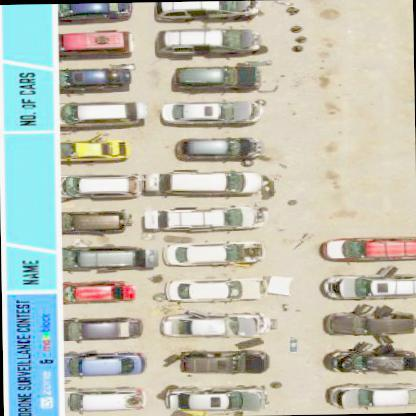car: (160, 306, 265, 339), (159, 383, 267, 415), (319, 307, 415, 338), (166, 96, 268, 125), (146, 170, 268, 194), (161, 27, 269, 54), (320, 269, 415, 299), (327, 380, 415, 412), (174, 61, 266, 91), (161, 203, 258, 229), (316, 235, 416, 260), (318, 346, 414, 372), (167, 241, 261, 267), (175, 349, 269, 373), (72, 244, 162, 268), (166, 279, 264, 301), (64, 172, 140, 200), (180, 134, 261, 160), (63, 314, 143, 340), (66, 350, 142, 376), (64, 388, 144, 412), (60, 64, 132, 90), (66, 100, 142, 124), (63, 208, 128, 236), (164, 0, 260, 18), (64, 282, 138, 304), (64, 136, 128, 160), (61, 30, 137, 48), (64, 2, 134, 18)
